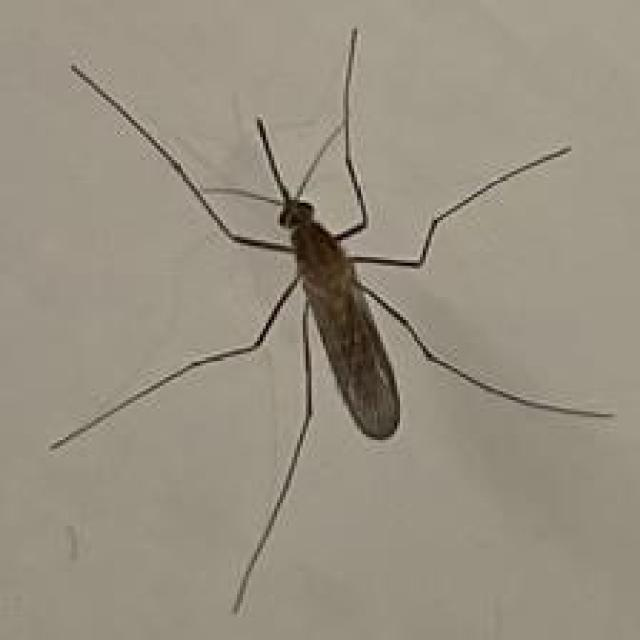Culex: (47, 24, 616, 616)
